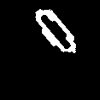chain: (36, 9, 75, 52)
